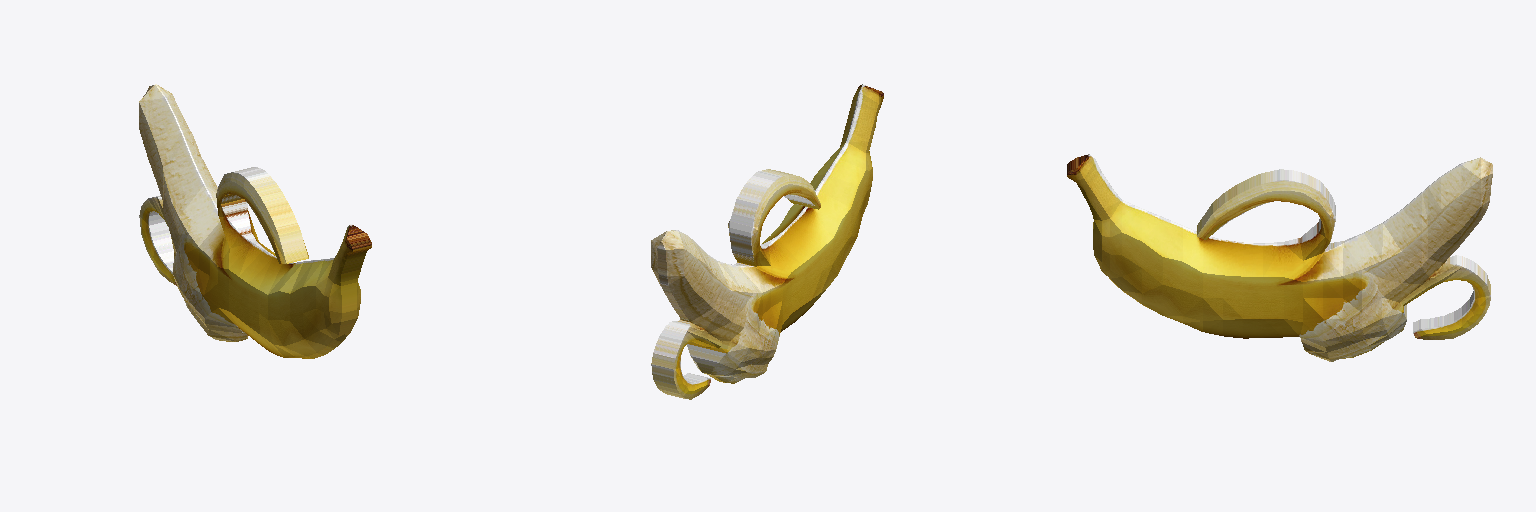
The picture shows the model from 3 angles: view 1: azimuth 30°, elevation 25°; view 2: azimuth 150°, elevation 25°; view 3: azimuth 270°, elevation 25°; orthographic projection.
Parts seen in each view (by area): view 1: Cube; view 2: Cube; view 3: Cube.
Boxes of the visible parts, box(x1,y1,x2,y2) form: Cube: box(139, 84, 371, 358); Cube: box(651, 84, 883, 399); Cube: box(1067, 154, 1492, 361).
Bounding box in the file's own units: 0.1278 × 0.3636 × 0.6908.
Materials: 1 (1 with a texture image).